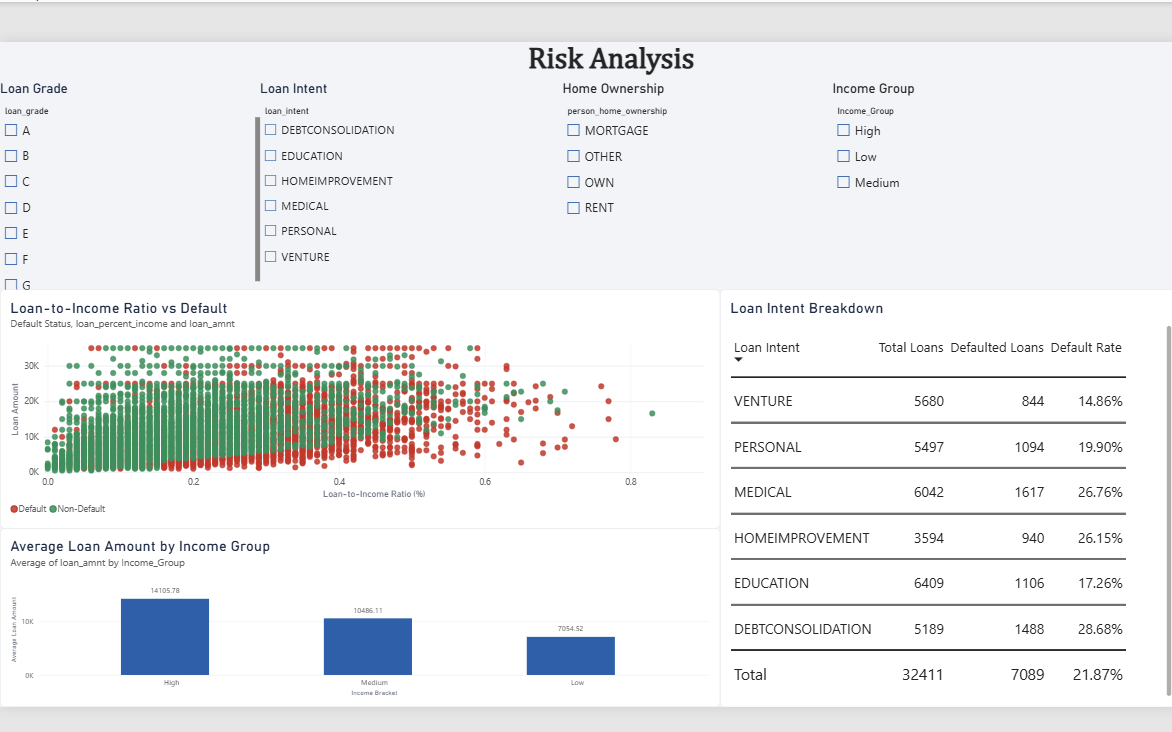

The dashboard page shown, as its layout file describes it:
{"tool":"powerbi","page":{"name":"Risk Analysis","canvas":[1920,1080],"ordinal":1},"visuals":[{"type":"tableEx","title":"Loan Intent Breakdown","fields":{"Values":["credit_risk loans_cleaned.loan_intent","CountNonNull(credit_risk loans_cleaned.loan_id)","Sum(credit_risk loans_cleaned.loan_status)","credit_risk loans_cleaned.Default Rate"]},"box":[1169.3,401.9,751.1,678],"z":0},{"type":"scatterChart","title":"Loan-to-Income Ratio vs Default","fields":{"Series":["credit_risk loans_cleaned.Default Status"],"X":["credit_risk loans_cleaned.loan_percent_income"],"Y":["credit_risk loans_cleaned.loan_amnt"]},"box":[0,401.9,1169.3,387.7],"z":1000},{"type":"clusteredColumnChart","title":"Average Loan Amount by Income Group","fields":{"Category":["credit_risk loans_cleaned.Income_Group"],"Y":["Avg(credit_risk loans_cleaned.loan_amnt)"]},"box":[0,789.7,1169.3,290.3],"z":2000},{"type":"slicer","title":"Loan Grade","fields":{"Values":["credit_risk loans_cleaned.loan_grade"]},"box":[0,62.9,422.2,339],"z":3000},{"type":"slicer","title":"Loan Intent","fields":{"Values":["credit_risk loans_cleaned.loan_intent"]},"box":[422.2,62.9,491.3,339],"z":4000},{"type":"slicer","title":"Home Ownership","fields":{"Values":["credit_risk loans_cleaned.person_home_ownership"]},"box":[913.5,62.9,438.5,339],"z":5000},{"type":"slicer","title":"Income Group","fields":{"Values":["credit_risk loans_cleaned.Income_Group"]},"box":[1352,62.9,568.4,339],"z":6000},{"type":"textbox","box":[99.5,0,1786.4,62.9],"z":6001}]}

Visuals, with their boxes on the page's 1920x1080 design canvas (x1, y1, x2, y2). These are canvas units, not pixel positions in the 1172x732 screenshot, which may show the page scaled, cropped or inside an application window:
"Loan Intent Breakdown" tableEx: left=1169, top=402, right=1920, bottom=1080
"Loan-to-Income Ratio vs Default" scatterChart: left=0, top=402, right=1169, bottom=790
"Average Loan Amount by Income Group" clusteredColumnChart: left=0, top=790, right=1169, bottom=1080
"Loan Grade" slicer: left=0, top=63, right=422, bottom=402
"Loan Intent" slicer: left=422, top=63, right=914, bottom=402
"Home Ownership" slicer: left=914, top=63, right=1352, bottom=402
"Income Group" slicer: left=1352, top=63, right=1920, bottom=402
textbox: left=100, top=0, right=1886, bottom=63
